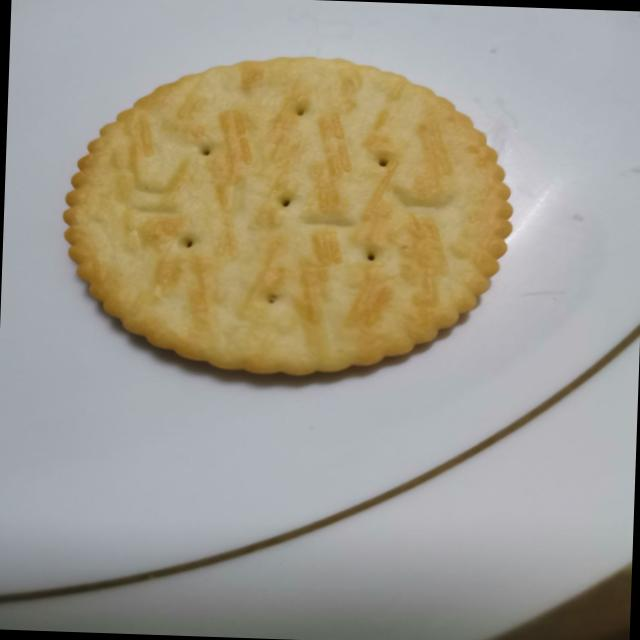intact biscuit: (54, 46, 520, 384)
